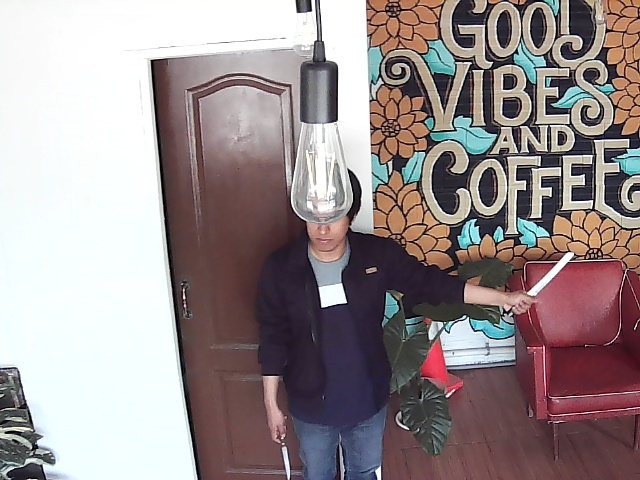cuchillo: (498, 243, 582, 328)
